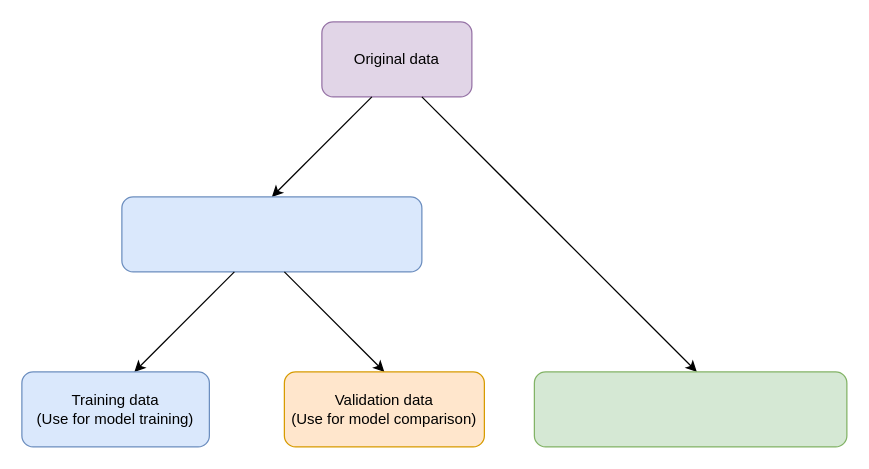
This 869x469 diagram has some shape labels left out. The box of each missing label's shape, as (x1, y1, x2, y2) in pixels:
Testing data (Use for assessing final model performance): (533, 371, 847, 447)
Training data: (121, 196, 422, 272)
